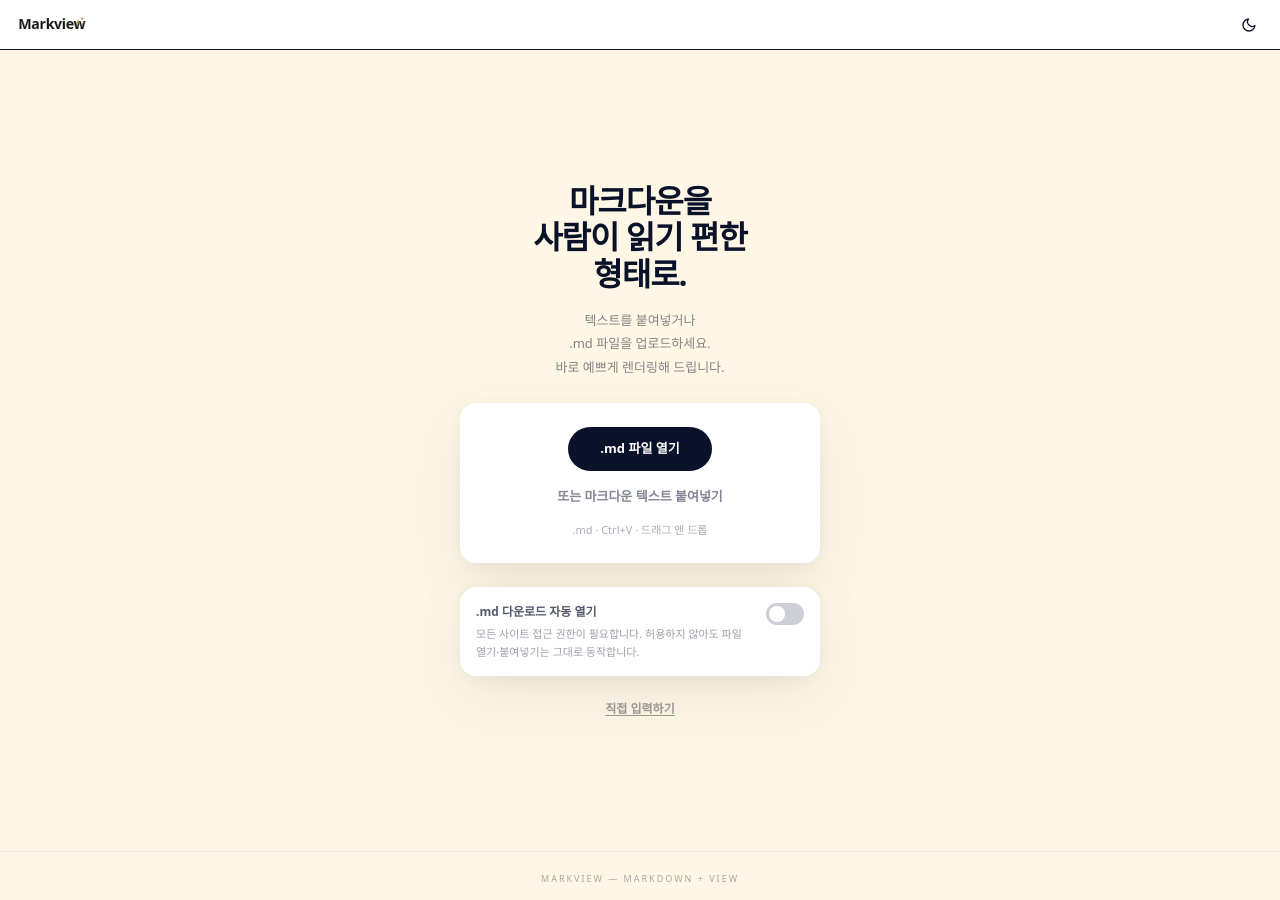
Test: ExtensionApp › shows header when entering edit mode from home
What coordinates should you click on to do the following:
click the button "직접 입력하기"
I would click on:
 (640, 709)
Its box is [605,700,675,718].
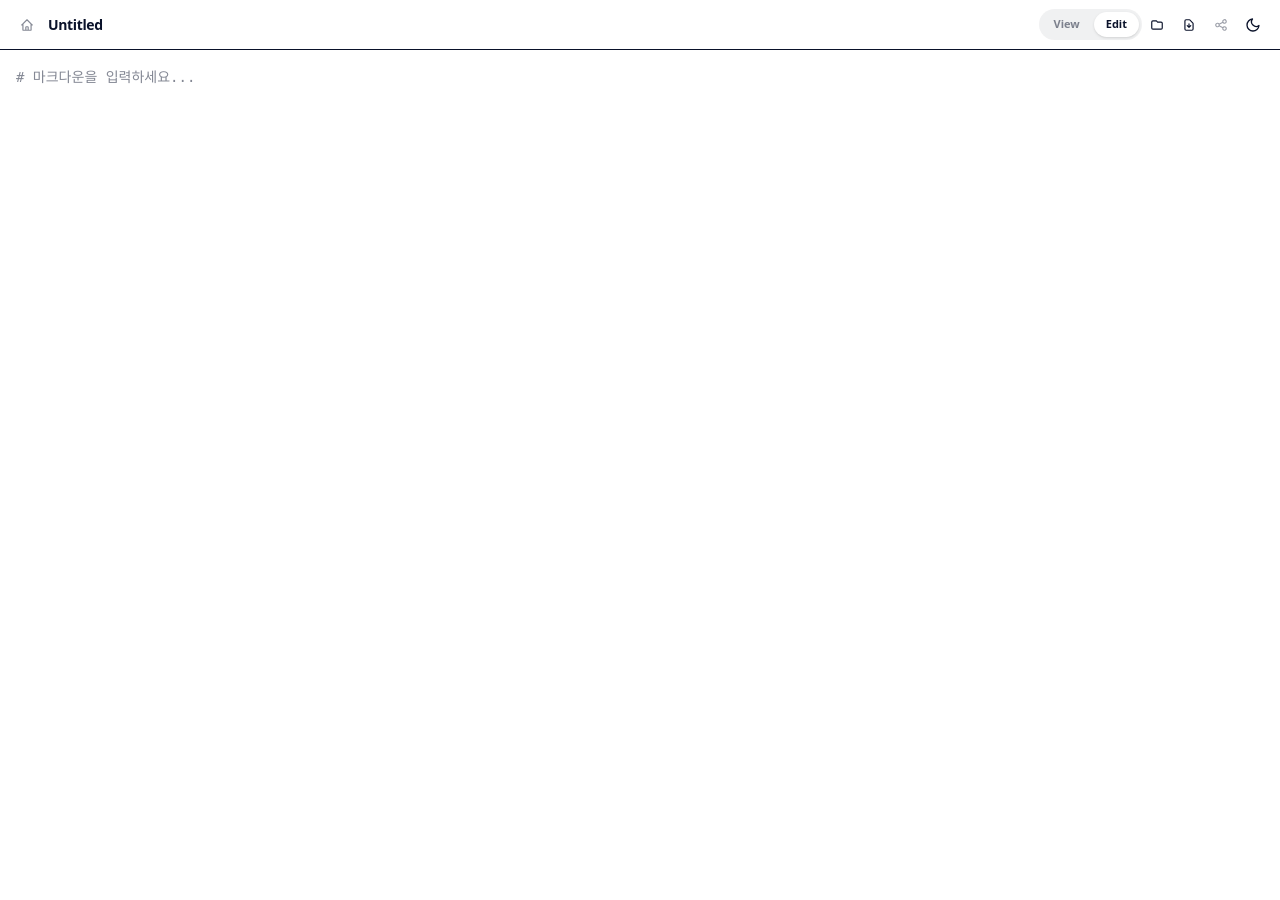
Expected: the button "View" is shown, [1042,12,1092,37]
Expected: the button "Edit" is shown, [1094,12,1139,37]
